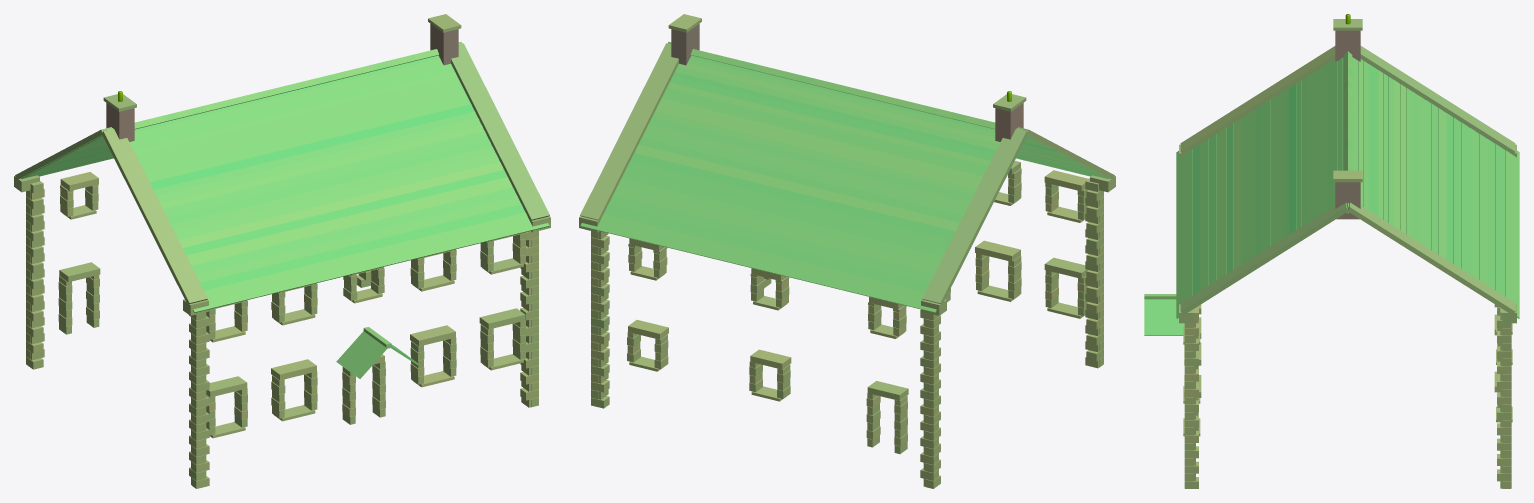
Rendered from SM_Bld_239_Stone.glb.
3 views of the same model, side by side, from view 1: azimuth 30°, elevation 25°; view 2: azimuth 150°, elevation 25°; view 3: azimuth 270°, elevation 25° (orthographic). The views are drawn at different scales.
Parts seen in each view (by area): view 1: SM_Bld_239_Stone; view 2: SM_Bld_239_Stone; view 3: SM_Bld_239_Stone.
Boxes of the visible parts, box(x1,y1,x2,y2) form: SM_Bld_239_Stone: box(14, 14, 550, 488); SM_Bld_239_Stone: box(579, 14, 1115, 488); SM_Bld_239_Stone: box(1144, 14, 1519, 488).
Size of the model in its own units: 14.13 by 12.44 by 13.32.
